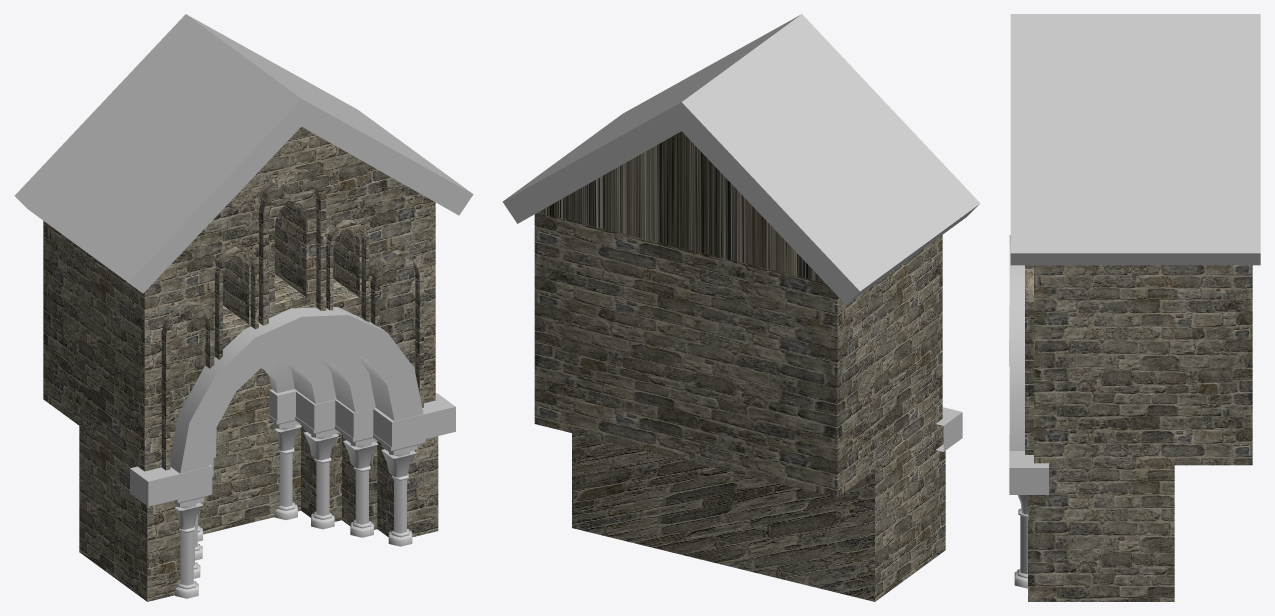
The model's file is SM_EN_2011_jianzhu04.FBX.
The picture shows the model from 3 angles, left to right: view 1: azimuth 30°, elevation 25°; view 2: azimuth 150°, elevation 25°; view 3: azimuth 270°, elevation 25°; orthographic projection. The views are drawn at different scales.
Visible parts, largest first — view 1: SM_EN_2011_jianzhu0402, SM_EN_2011_jianzhu0401; view 2: SM_EN_2011_jianzhu0402, SM_EN_2011_jianzhu0401; view 3: SM_EN_2011_jianzhu0401, SM_EN_2011_jianzhu0402.
Part boxes in pixels (<box>): SM_EN_2011_jianzhu0402: <box>43,126,438,601</box>; SM_EN_2011_jianzhu0401: <box>14,14,473,598</box>; SM_EN_2011_jianzhu0402: <box>534,131,945,601</box>; SM_EN_2011_jianzhu0401: <box>502,14,980,451</box>; SM_EN_2011_jianzhu0401: <box>1009,14,1260,588</box>; SM_EN_2011_jianzhu0402: <box>1025,265,1252,601</box>.
Size of the model in its own units: 488 by 644 by 286.
